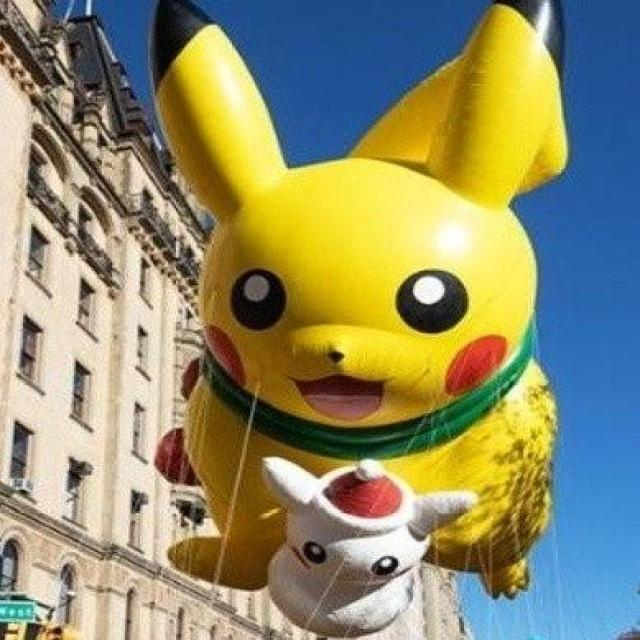pikachu: (150, 0, 570, 594)
